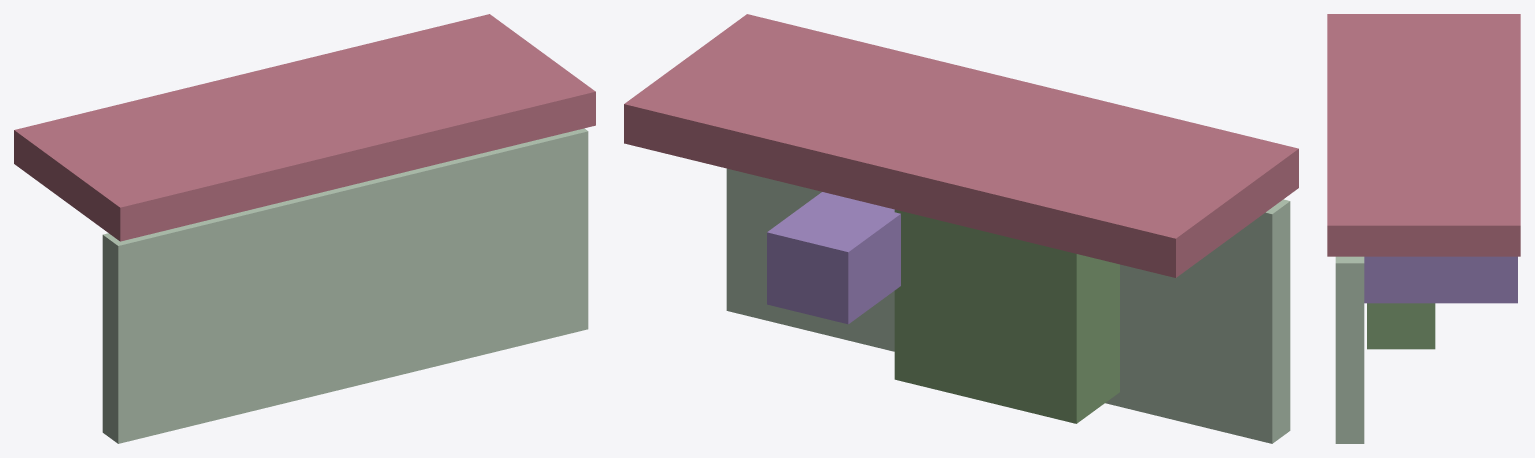
The model's file is 199536_pred.glb.
3 views of the same model, side by side, from view 1: azimuth 30°, elevation 25°; view 2: azimuth 150°, elevation 25°; view 3: azimuth 270°, elevation 25° (orthographic). The views are drawn at different scales.
Visible parts, largest first — view 1: world; view 2: world; view 3: world.
Boxes of the visible parts, box(x1,y1,x2,y2) form: world: box(14, 14, 595, 443); world: box(624, 14, 1298, 443); world: box(1327, 14, 1520, 443).
Size of the model in its own units: 8.8 by 4.25 by 3.4.
